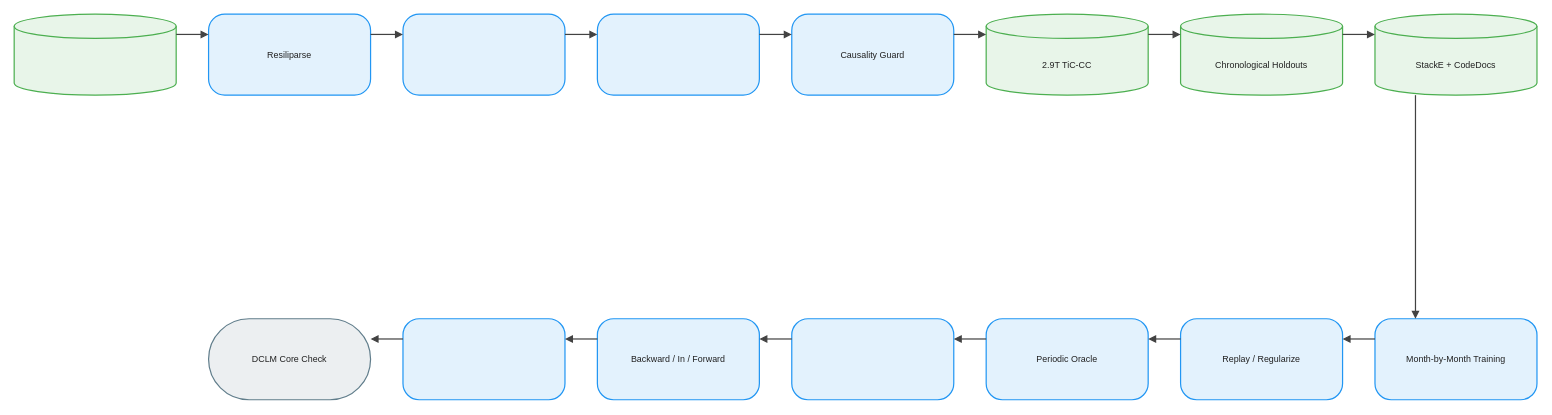
Some shapes in this 1552 by 415 pixel diagram are drawn without their labels. Each missing label, with the centre of its shape:
"114 Monthly CC Dumps" goes at pixel 94 54.
"Forgetting + Transfer" goes at pixel 483 359.
"Heuristic Quality Filter" goes at pixel 483 54.
"Temporal Perplexity" goes at pixel 872 359.
"Within-Month Fuzzy Dedup" goes at pixel 678 54.
